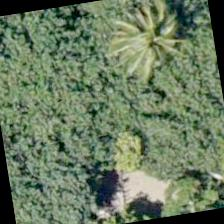Kelapa_Sawit: (98, 0, 202, 90)
